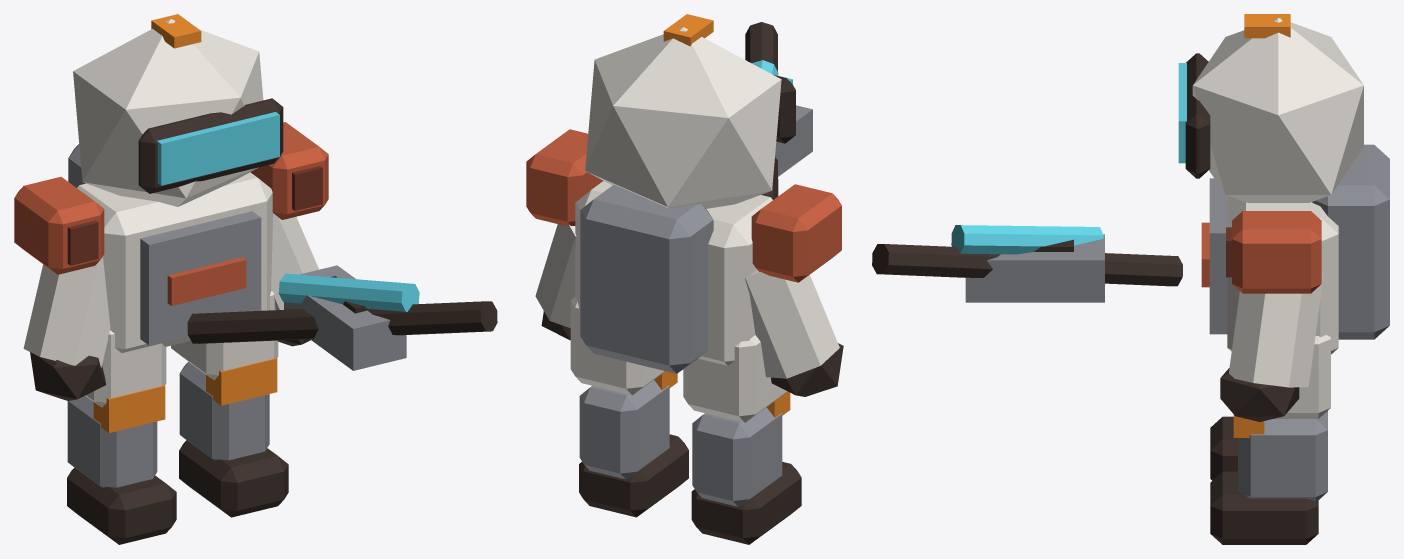
Rendered from u_archer.glb.
The picture shows the model from 3 angles, left to right: view 1: azimuth 30°, elevation 25°; view 2: azimuth 150°, elevation 25°; view 3: azimuth 270°, elevation 25°; orthographic projection.
Parts seen in each view (by area): view 1: u_archer; view 2: u_archer; view 3: u_archer.
Part boxes in pixels (bbox=[...]): u_archer: bbox=[14, 14, 497, 544]; u_archer: bbox=[526, 14, 843, 544]; u_archer: bbox=[872, 14, 1389, 544].
Bounding box in the file's own units: 0.1989 × 0.32 × 0.3075.
